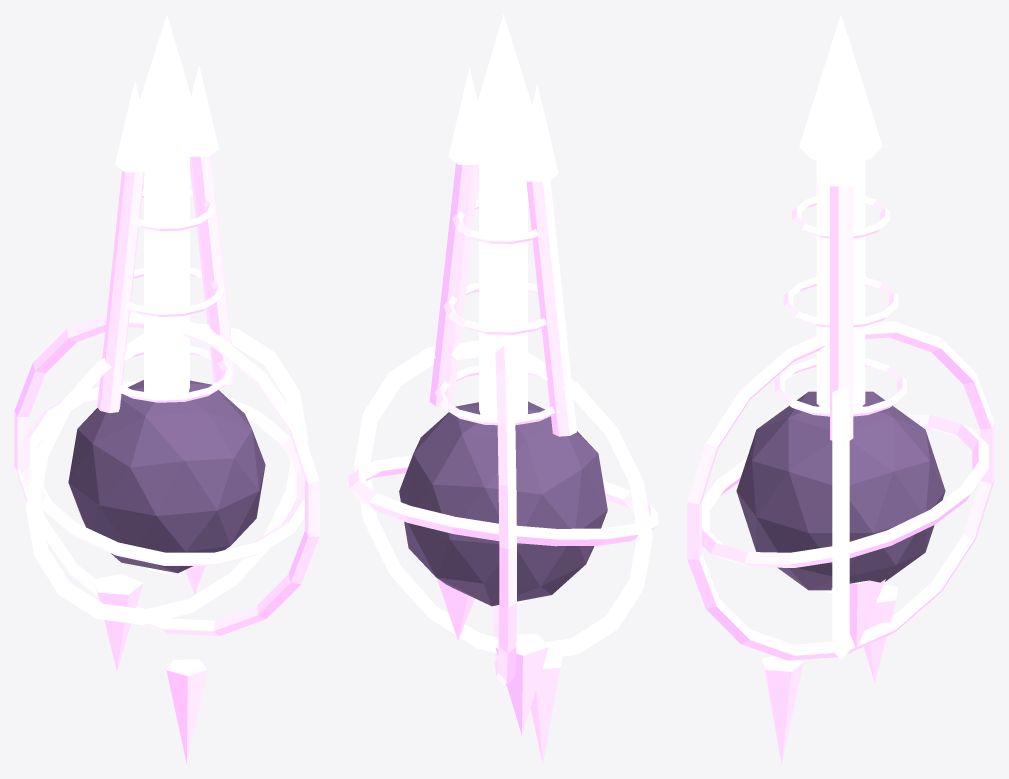
Rendered from singularity_lance_beam.glb.
3 renders of one model, left to right at view 1: azimuth 30°, elevation 25°; view 2: azimuth 150°, elevation 25°; view 3: azimuth 270°, elevation 25°, orthographic. The views are drawn at different scales.
Parts seen in each view (by area): view 1: GravityCore, GravityOrbit_2, GravityOrbit_1, SingularityWhiteLance, GravityOrbit_0, LancePoint, LanceFork_-1, LanceFork_1, GravityWake_2, GravityWake_1, LanceForkTip_-1, LanceFocusRing_0 (+3 smaller); view 2: GravityCore, GravityOrbit_1, SingularityWhiteLance, GravityOrbit_0, GravityOrbit_2, LancePoint, LanceFork_-1, LanceFork_1, GravityWake_1, LanceForkTip_-1, GravityWake_2, LanceFocusRing_0 (+4 smaller); view 3: GravityCore, GravityOrbit_2, GravityOrbit_0, SingularityWhiteLance, LancePoint, LanceFork_1, GravityOrbit_1, GravityWake_2, LanceForkTip_1, LanceFocusRing_0, LanceFocusRing_1, GravityWake_0 (+2 smaller).
Part boxes in pixels (bbox=[...]): GravityCore: bbox=[68, 380, 265, 573]; GravityOrbit_2: bbox=[14, 312, 319, 635]; GravityOrbit_1: bbox=[26, 322, 307, 624]; SingularityWhiteLance: bbox=[144, 155, 189, 573]; GravityOrbit_0: bbox=[20, 381, 304, 565]; LancePoint: bbox=[140, 15, 205, 158]; LanceFork_-1: bbox=[97, 170, 144, 412]; LanceFork_1: bbox=[190, 155, 236, 385]; GravityWake_2: bbox=[166, 659, 207, 764]; GravityWake_1: bbox=[93, 573, 143, 670]; LanceForkTip_-1: bbox=[115, 80, 154, 172]; LanceFocusRing_0: bbox=[118, 346, 231, 402]; GravityCore: bbox=[399, 401, 607, 606]; GravityOrbit_1: bbox=[354, 340, 652, 658]; SingularityWhiteLance: bbox=[479, 164, 527, 605]; GravityOrbit_0: bbox=[348, 456, 658, 546]; GravityOrbit_2: bbox=[492, 346, 516, 686]; LancePoint: bbox=[462, 14, 532, 166]; LanceFork_-1: bbox=[526, 180, 576, 436]; LanceFork_1: bbox=[429, 163, 478, 407]; GravityWake_1: bbox=[495, 634, 548, 735]; LanceForkTip_-1: bbox=[516, 84, 558, 181]; GravityWake_2: bbox=[530, 656, 562, 763]; LanceFocusRing_0: bbox=[434, 365, 554, 425]; GravityCore: bbox=[736, 391, 945, 590]; GravityOrbit_2: bbox=[687, 321, 994, 660]; GravityOrbit_0: bbox=[702, 414, 988, 567]; SingularityWhiteLance: bbox=[816, 160, 865, 593]; LancePoint: bbox=[799, 15, 882, 161]; LanceFork_1: bbox=[830, 185, 853, 440]; GravityOrbit_1: bbox=[832, 387, 849, 658]; GravityWake_2: bbox=[762, 656, 803, 763]; LanceForkTip_1: bbox=[820, 91, 861, 186]; LanceFocusRing_0: bbox=[775, 358, 906, 416]; LanceFocusRing_1: bbox=[783, 277, 898, 327]; GravityWake_0: bbox=[831, 579, 885, 649].
Size of the model in its own units: 0.97 by 2.39 by 0.8816.
